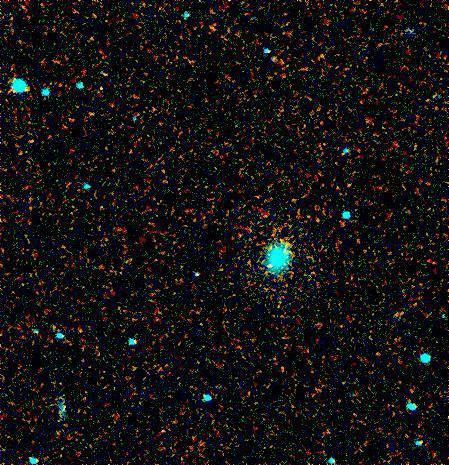star: (257, 252, 287, 282)
